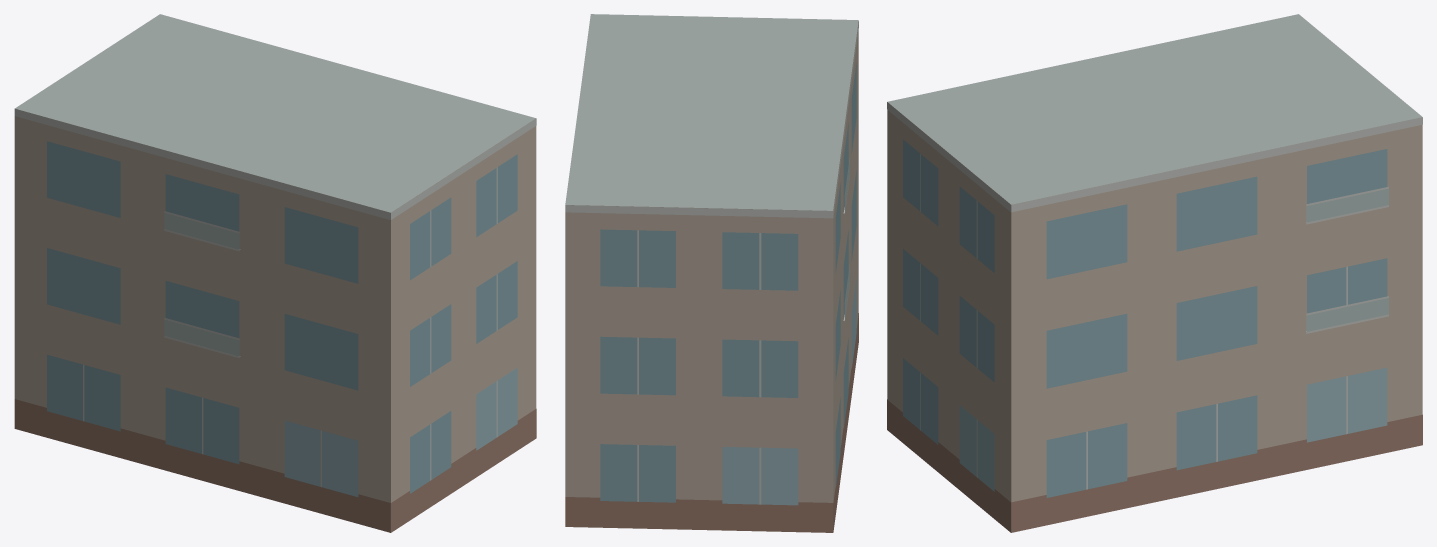
The model's file is survey-upis-32633131.glb.
3 views of the same model, side by side, from view 1: azimuth 30°, elevation 25°; view 2: azimuth 150°, elevation 25°; view 3: azimuth 270°, elevation 25° (orthographic). The views are drawn at different scales.
Visible parts, largest first — view 1: survey-upis-32633131.tmp; view 2: survey-upis-32633131.tmp; view 3: survey-upis-32633131.tmp.
Boxes of the visible parts, bbox=[...] form: survey-upis-32633131.tmp: bbox=[14, 14, 536, 532]; survey-upis-32633131.tmp: bbox=[565, 14, 858, 532]; survey-upis-32633131.tmp: bbox=[887, 14, 1422, 532].
Size of the model in its own units: 13.16 by 10.55 by 15.62.
